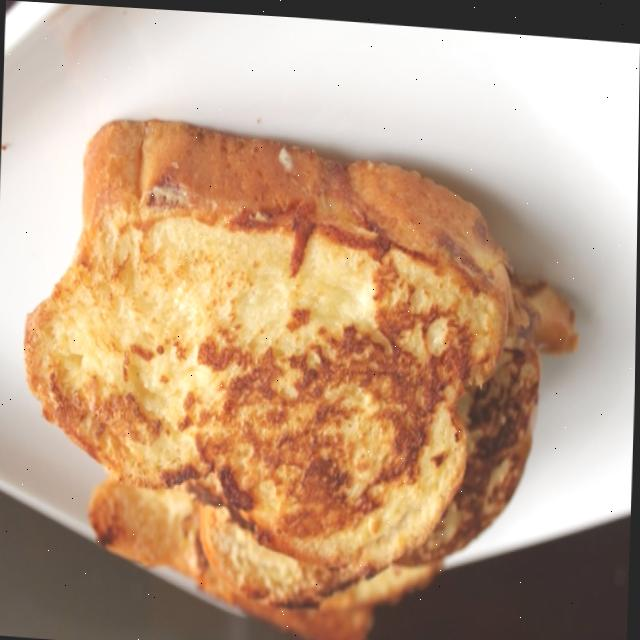面包点心: (8, 83, 571, 640)
